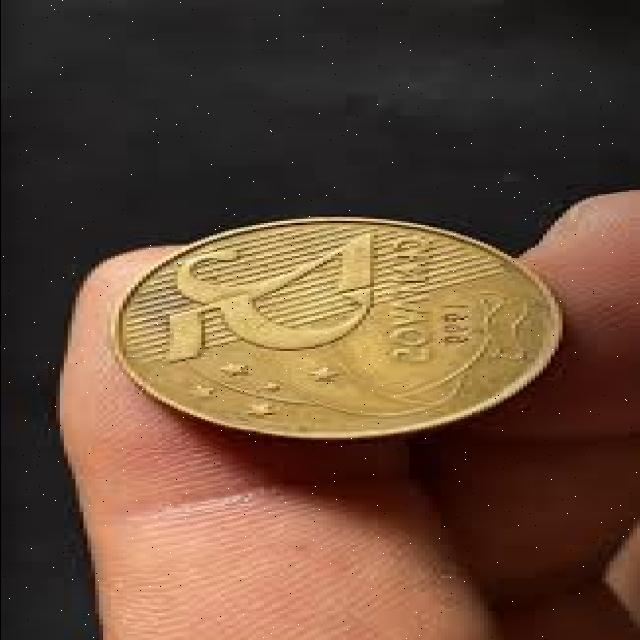25 cent: (127, 224, 541, 440)
